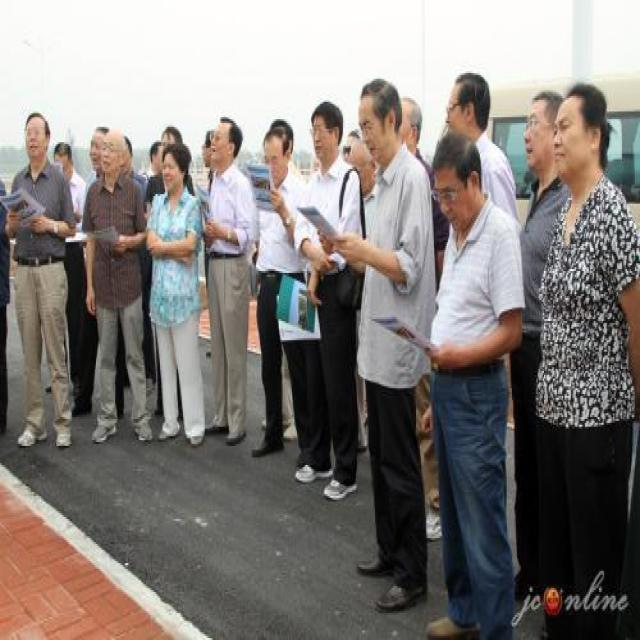no hat: (544, 77, 608, 196), (436, 132, 492, 240), (354, 75, 402, 169), (524, 79, 566, 179), (444, 67, 496, 144), (308, 98, 347, 169), (206, 115, 246, 173), (262, 115, 297, 181), (397, 92, 425, 167), (158, 128, 188, 192), (20, 108, 52, 166), (350, 136, 378, 198), (100, 122, 126, 186), (51, 138, 76, 186), (89, 123, 108, 177)
